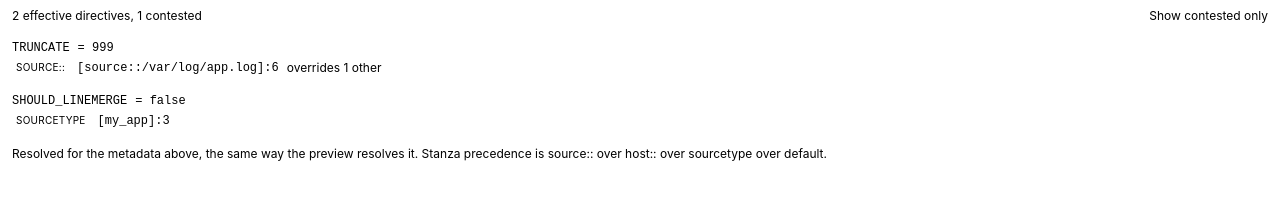
Test: EffectiveConfigTab (#86) › reveals the overridden definition on expand
The image size is (1280, 205).
Expected: the text "TRUNCATE = 500" is not shown
Click the button "overrides 1 other" at (334, 68), box 287,60 -> 382,76
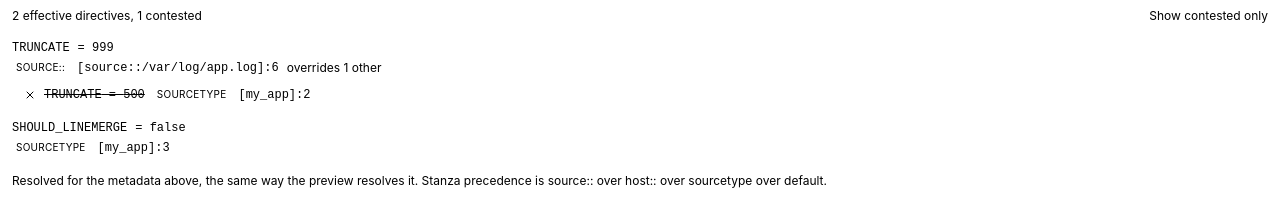
Result: the text "TRUNCATE = 500" is shown at 44,86 -> 145,102
Result: the button "[my_app]:2" is shown at 238,86 -> 310,102
